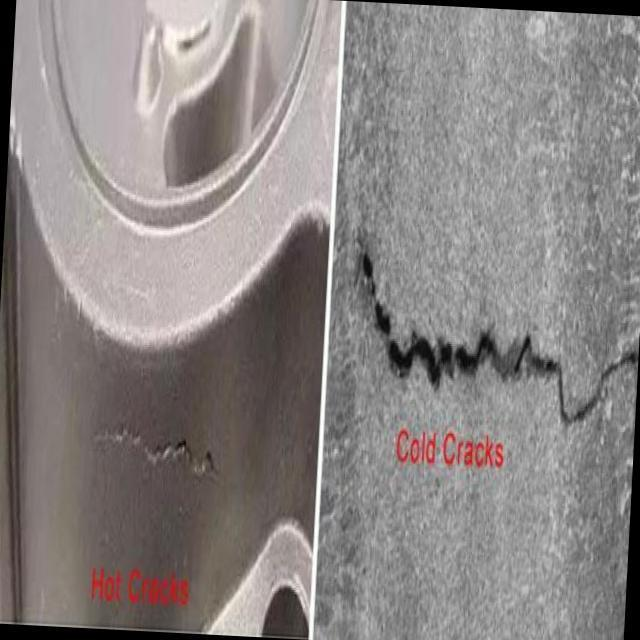defect: (358, 230, 637, 430), (80, 423, 224, 492)
